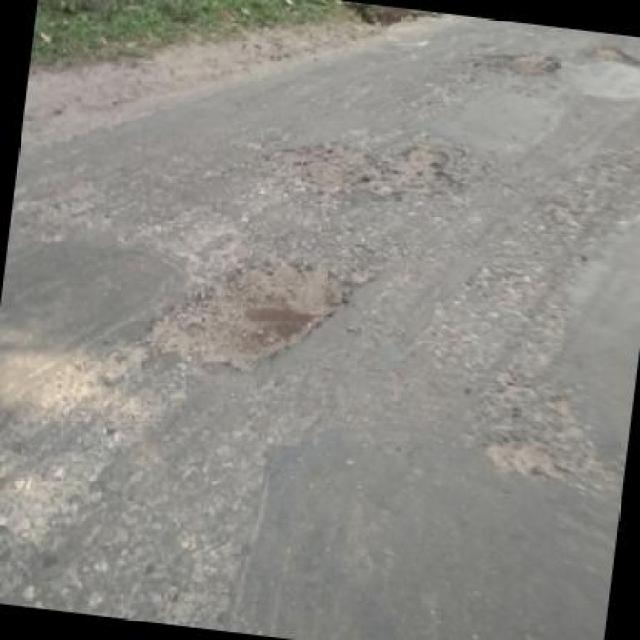pothole1: (134, 233, 358, 387), (254, 125, 466, 209), (466, 39, 562, 84), (582, 38, 638, 72)
